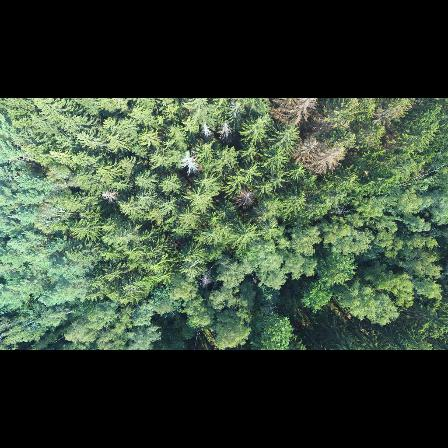Dead: (297, 139, 348, 174), (268, 98, 314, 127), (177, 149, 200, 176), (238, 187, 257, 206), (221, 122, 234, 145), (198, 273, 215, 290), (202, 121, 213, 144)
